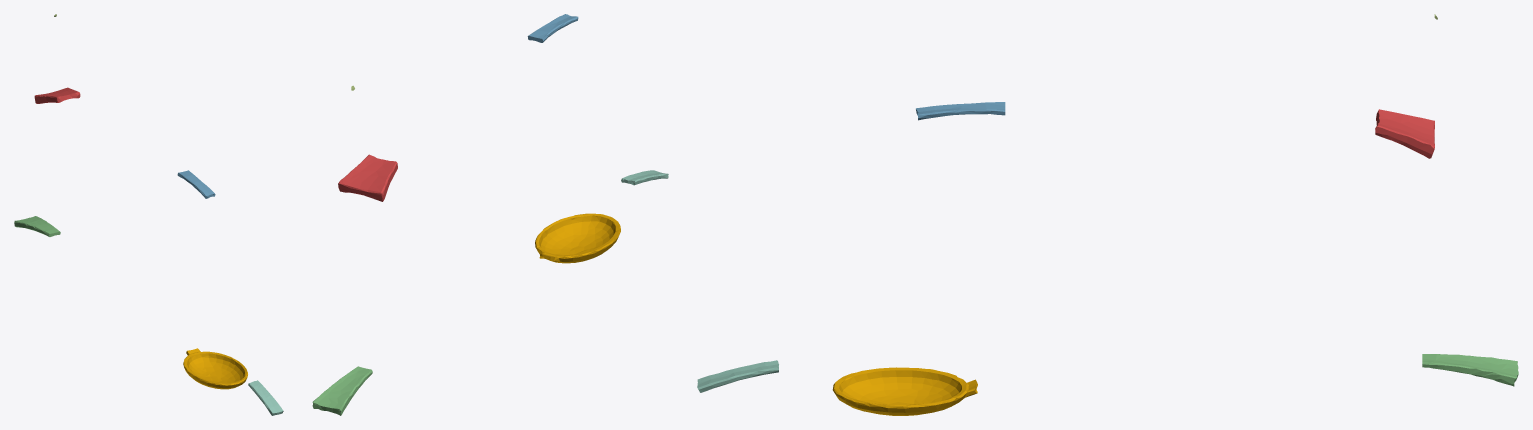
Rendered from mode_5_6pcs_transformed.glb.
3 renders of one model, left to right at view 1: azimuth 30°, elevation 25°; view 2: azimuth 150°, elevation 25°; view 3: azimuth 270°, elevation 25°, orthographic. The views are drawn at different scales.
Parts seen in each view (by area): view 1: piece_0.obj, piece_3.obj, piece_4.obj, piece_1.obj, piece_2.obj; view 2: piece_0.obj, piece_1.obj, piece_3.obj, piece_2.obj, piece_4.obj; view 3: piece_0.obj, piece_1.obj, piece_3.obj, piece_4.obj, piece_2.obj.
Boxes of the visible parts, <box> form: piece_0.obj: <box>183,348,247,389</box>; piece_3.obj: <box>14,216,60,236</box>; piece_4.obj: <box>248,380,283,415</box>; piece_1.obj: <box>34,87,80,103</box>; piece_2.obj: <box>177,170,215,198</box>; piece_0.obj: <box>535,213,620,263</box>; piece_1.obj: <box>338,154,397,201</box>; piece_3.obj: <box>312,366,372,415</box>; piece_2.obj: <box>527,14,578,42</box>; piece_4.obj: <box>621,170,668,185</box>; piece_0.obj: <box>832,367,977,415</box>; piece_1.obj: <box>1375,109,1434,158</box>; piece_3.obj: <box>1422,354,1518,386</box>; piece_4.obj: <box>697,360,778,392</box>; piece_2.obj: <box>916,102,1005,120</box>.
Size of the model in its own units: 0.1994 by 0.9476 by 1.77.
